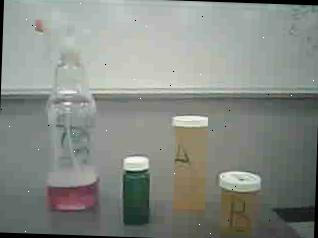Bottle A: (168, 114, 214, 222)
Bottle B: (214, 166, 260, 238)
Bottle C: (119, 151, 157, 229)
hazard: (26, 16, 107, 217)
